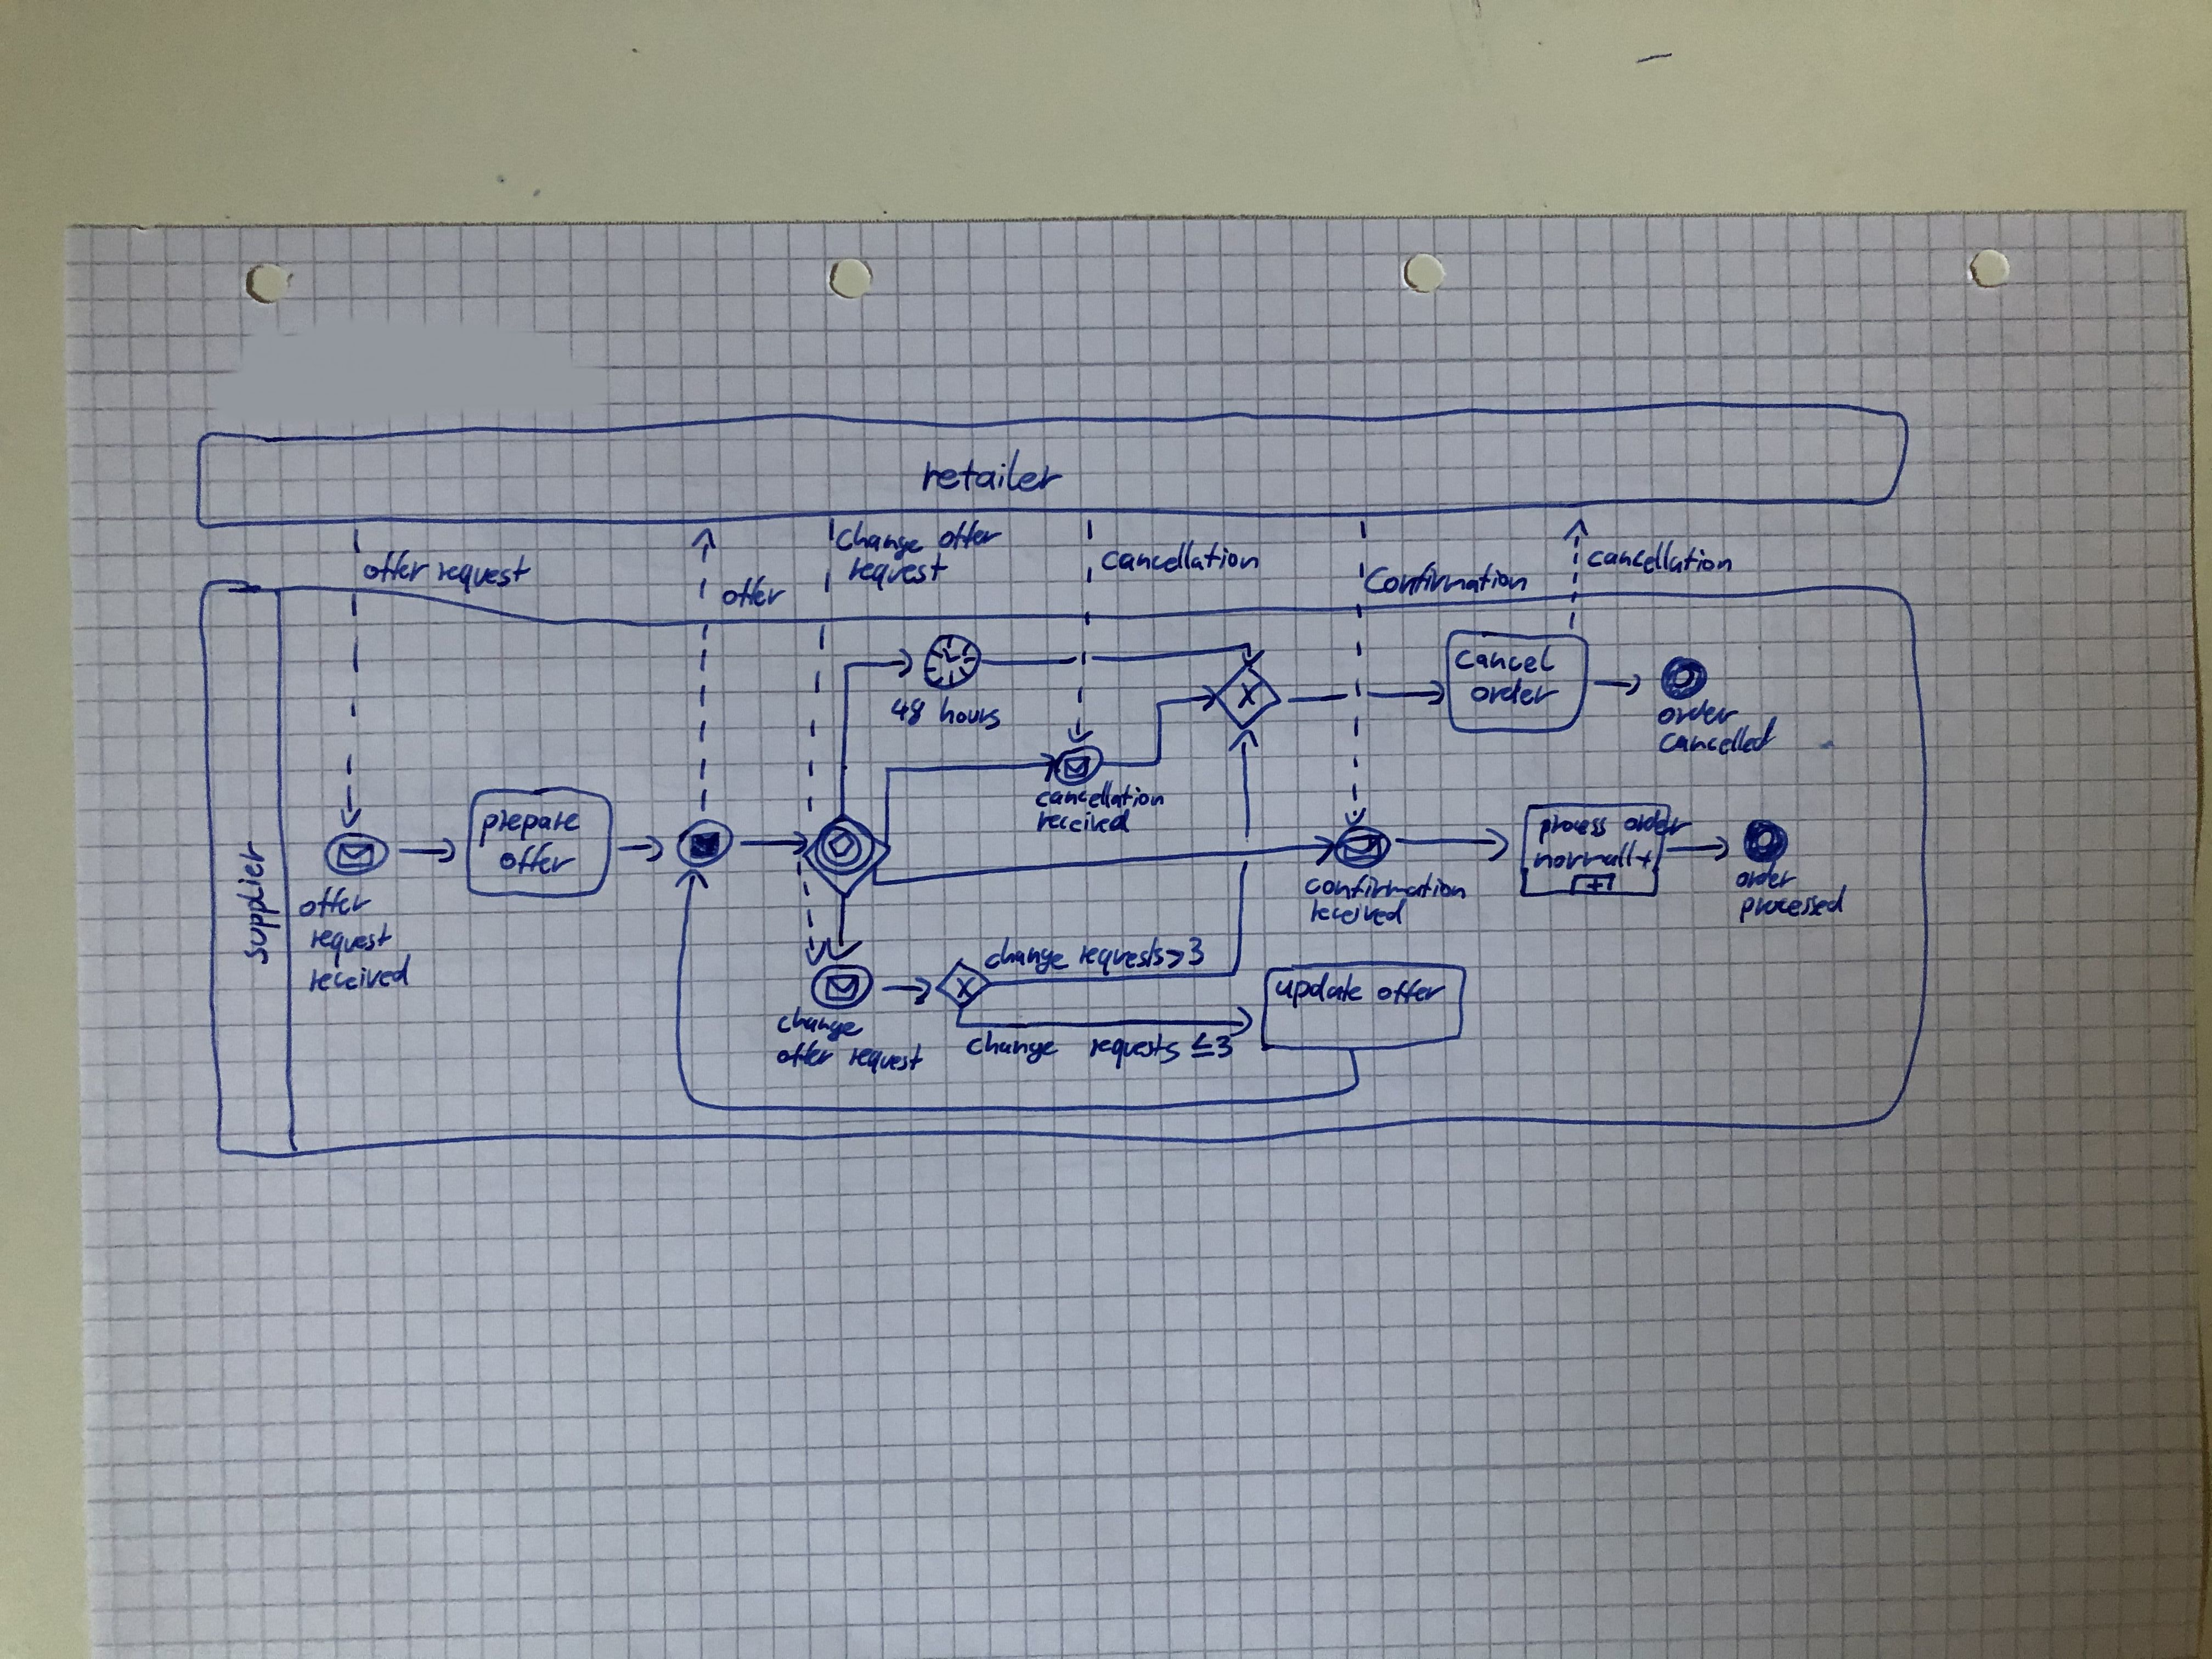48: (887, 695, 928, 727)
<=3: (1191, 1026, 1238, 1061)
>3: (1165, 939, 1211, 972)
Cancel: (1458, 647, 1561, 676)
Confirmation: (1362, 559, 1531, 599)
cancellation: (1581, 528, 1738, 582), (1097, 540, 1264, 582), (1035, 782, 1167, 810)
cancelled: (1658, 718, 1782, 758)
change: (833, 518, 928, 558), (986, 938, 1068, 974), (967, 1032, 1059, 1061), (777, 1009, 864, 1040)
confirmation: (1305, 873, 1472, 906)
hours: (937, 697, 1001, 732)
normally: (1536, 843, 1651, 870)
offer: (298, 884, 373, 924), (498, 842, 582, 877), (719, 573, 787, 613), (935, 516, 998, 558), (364, 547, 428, 587), (775, 1040, 836, 1073), (1378, 978, 1447, 1002)
order: (1467, 678, 1562, 713), (1651, 697, 1742, 730), (1623, 810, 1695, 838), (1737, 866, 1797, 890)
prepare: (477, 800, 583, 842)
process: (1536, 812, 1620, 842)
processed: (1738, 889, 1848, 922)
received: (303, 958, 413, 999), (1305, 899, 1411, 927), (1036, 809, 1139, 836)
request: (841, 551, 958, 592), (428, 552, 536, 594), (303, 924, 399, 964), (850, 1042, 925, 1073)
requests: (1080, 1028, 1188, 1066), (1071, 938, 1165, 976)
retailer: (920, 457, 1064, 498)
supplier: (235, 843, 279, 967)
update: (1275, 972, 1366, 1006)
